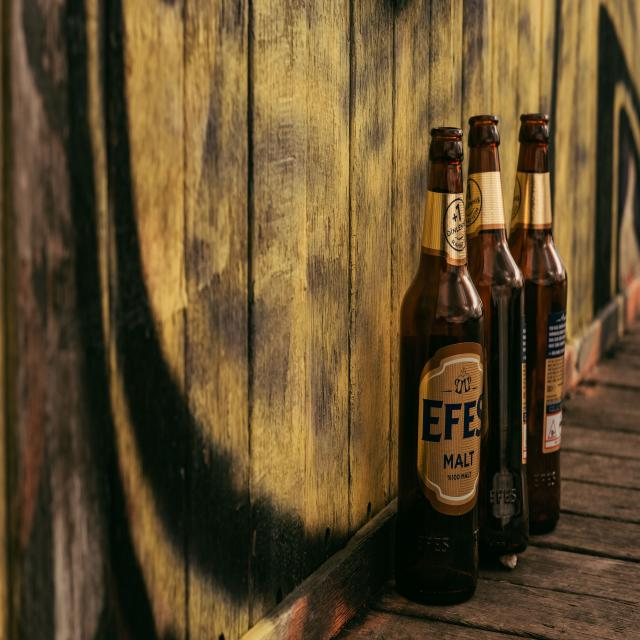Bottle: (395, 128, 484, 603), (466, 116, 528, 556), (509, 114, 567, 533)
